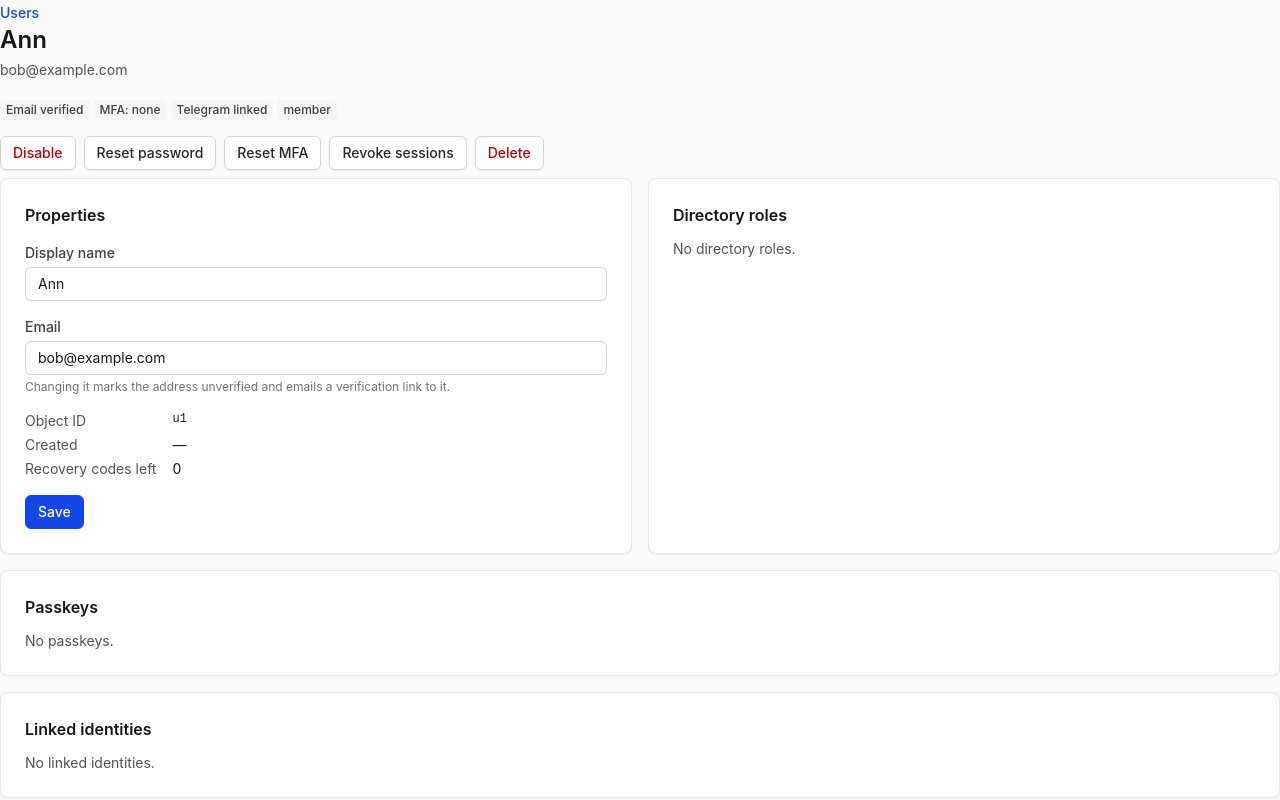
Test case: UserDetail Telegram › shows a linked Telegram and lets MFA reset unlink it
The image size is (1280, 800).
Step 1. Click the button "Reset MFA" → (273, 153), box [224, 136, 321, 170]
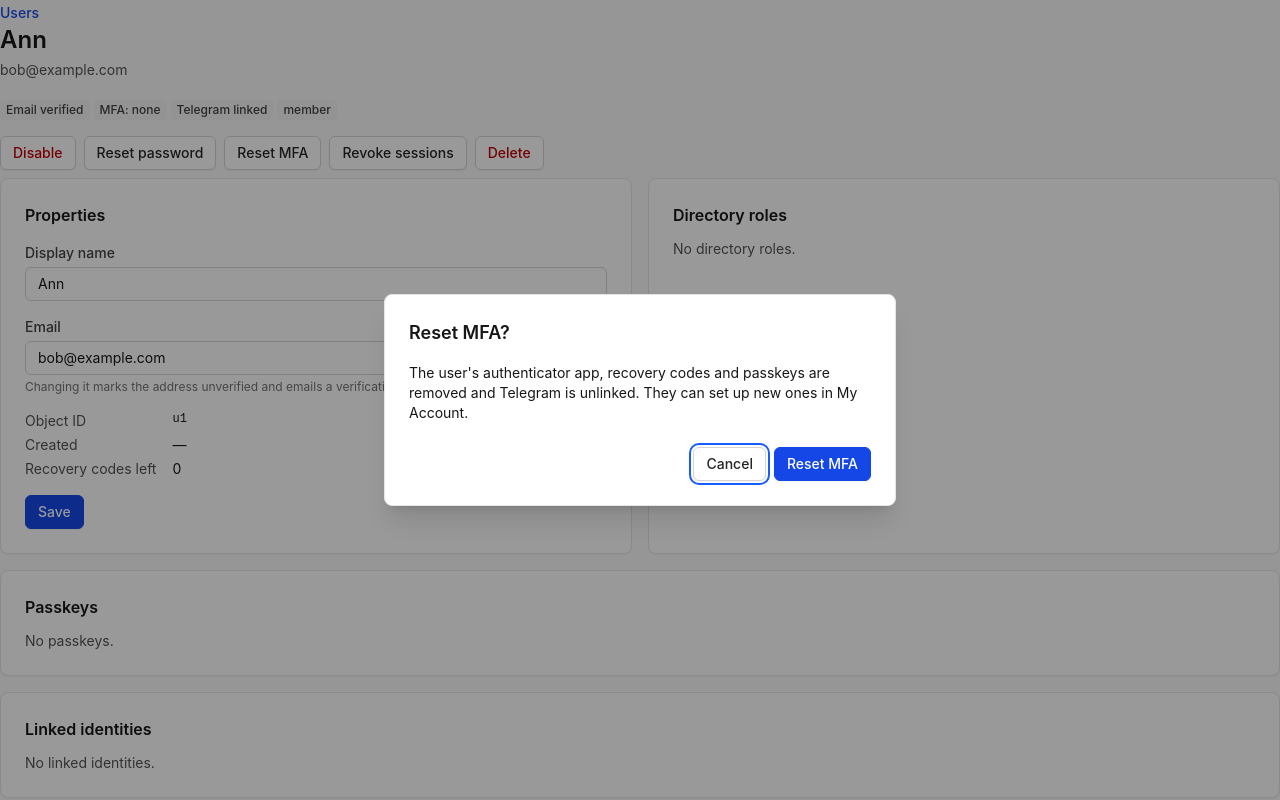
Expected: the text "Telegram is unlinked" is shown, [409, 364, 858, 421]
